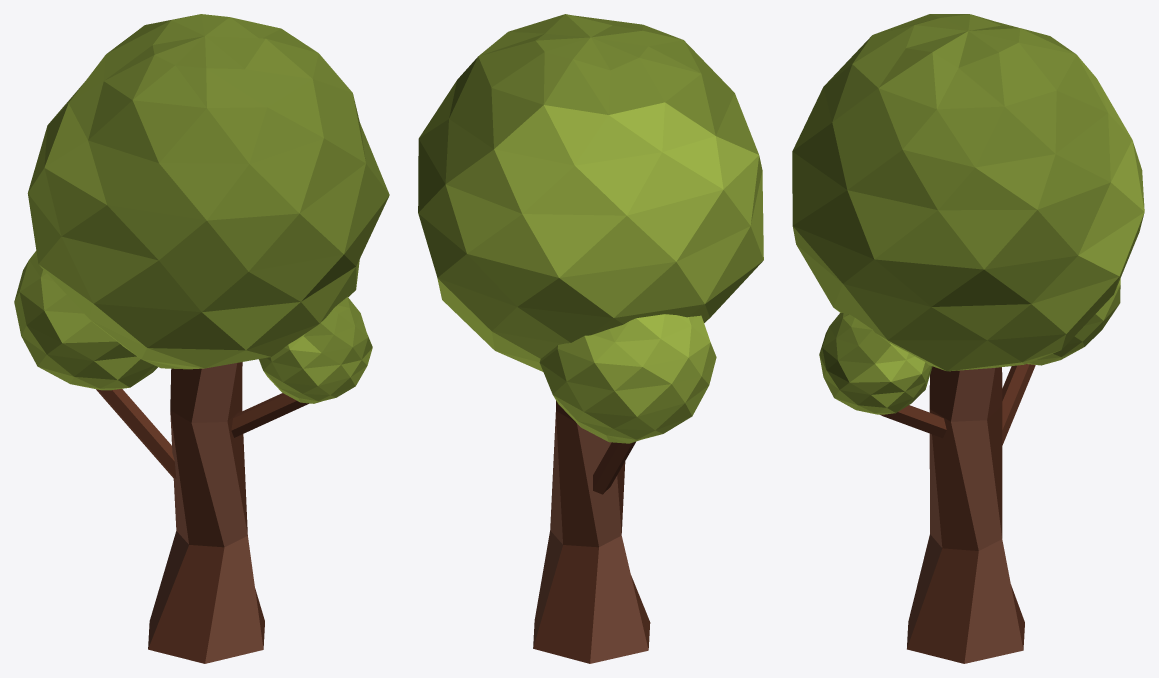
Rendered from tree6.fbx.
3 renders of one model, left to right at view 1: azimuth 30°, elevation 25°; view 2: azimuth 150°, elevation 25°; view 3: azimuth 270°, elevation 25°, orthographic.
Parts seen in each view (by area): view 1: Ağaç6_Mesh; view 2: Ağaç6_Mesh; view 3: Ağaç6_Mesh.
Part boxes in pixels (x1,y1,x2,y2): Ağaç6_Mesh: (14, 14, 389, 663); Ağaç6_Mesh: (418, 14, 763, 663); Ağaç6_Mesh: (792, 14, 1144, 663).
Bounding box in the file's own units: 1.88 × 3.48 × 1.83.
